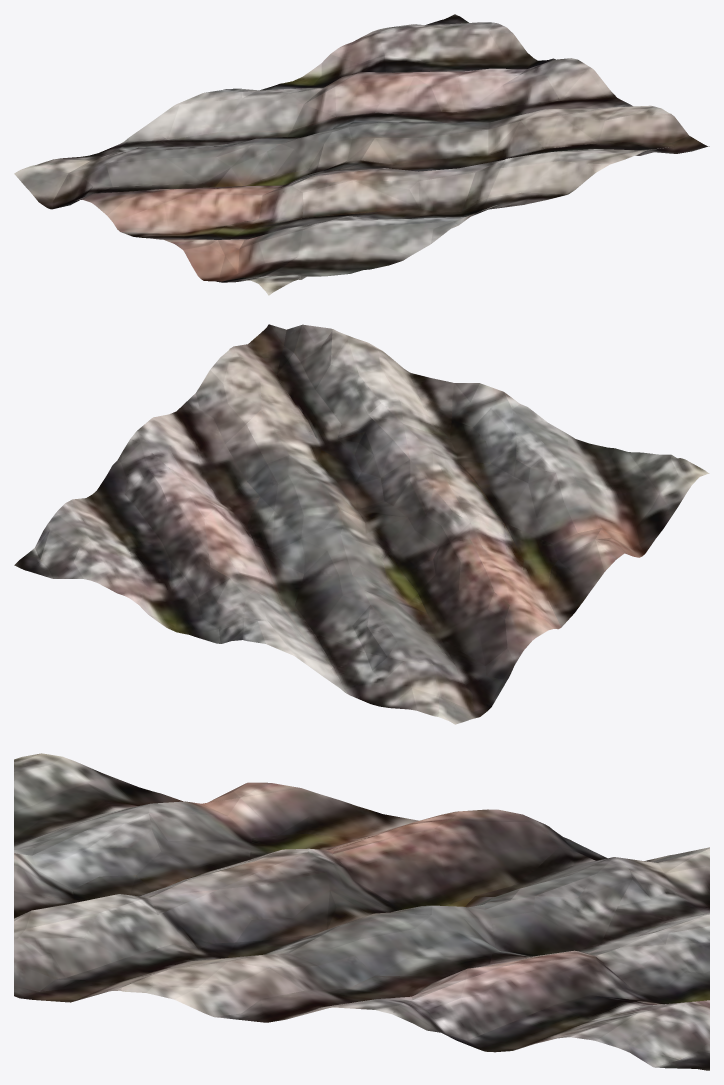
3 views of the same model, one above another, from view 1: azimuth 30°, elevation 25°; view 2: azimuth 150°, elevation 25°; view 3: azimuth 270°, elevation 25° (orthographic). The views are drawn at different scales.
Bounding box in the file's own units: 0.8374 × 0.2319 × 0.8374.
3 materials, 3 textured.
